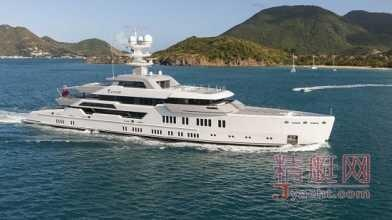yacht: (24, 29, 336, 150)
